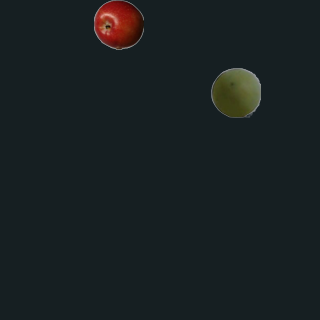Apple Braeburn: (93, 0, 143, 49)
Grape White 4: (210, 67, 260, 117)
